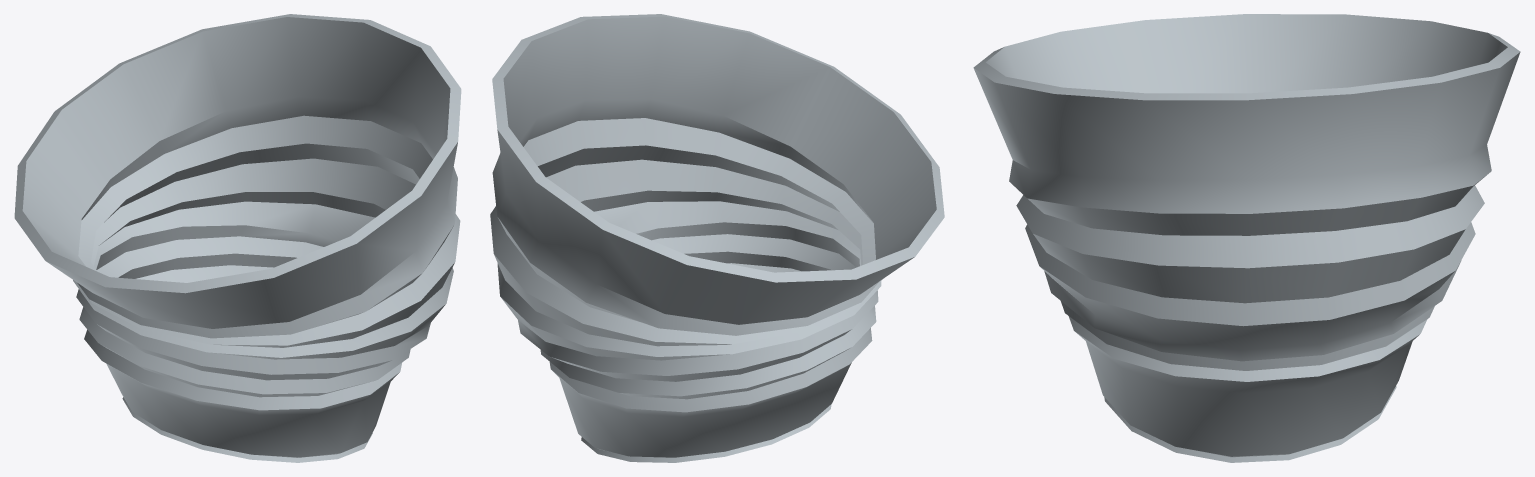
Rendered from VasoPlastico_04.fbx.
3 renders of one model, left to right at view 1: azimuth 30°, elevation 25°; view 2: azimuth 150°, elevation 25°; view 3: azimuth 270°, elevation 25°, orthographic. The views are drawn at different scales.
Visible parts, largest first — view 1: VasoPlastico_04; view 2: VasoPlastico_04; view 3: VasoPlastico_04.
Part boxes in pixels (<box>): VasoPlastico_04: <box>14,14,461,462</box>; VasoPlastico_04: <box>490,14,944,462</box>; VasoPlastico_04: <box>973,14,1520,462</box>.
Bounding box in the file's own units: 28.38 × 24.11 × 29.22.
